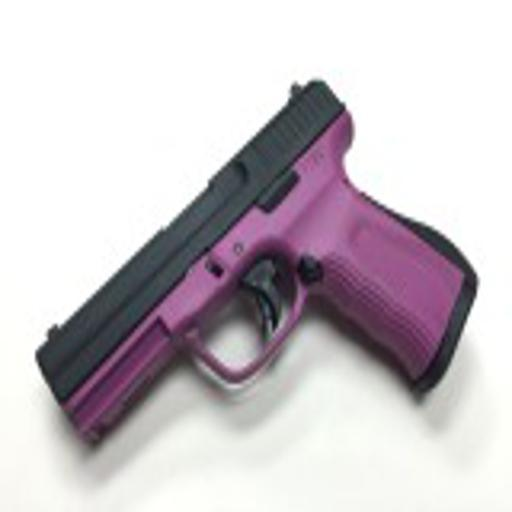Handgun: (34, 71, 479, 451)
